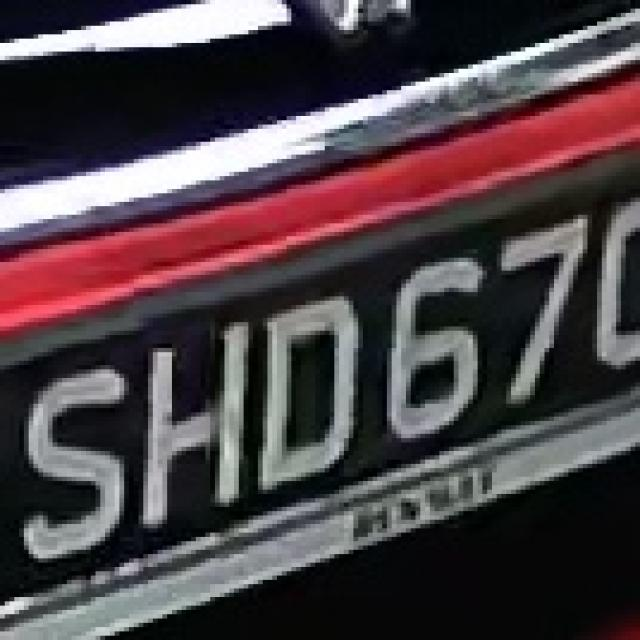6: (377, 240, 492, 447)
7: (468, 219, 597, 417)
D: (258, 288, 363, 494)
H: (124, 322, 258, 516)
S: (5, 352, 129, 571)
